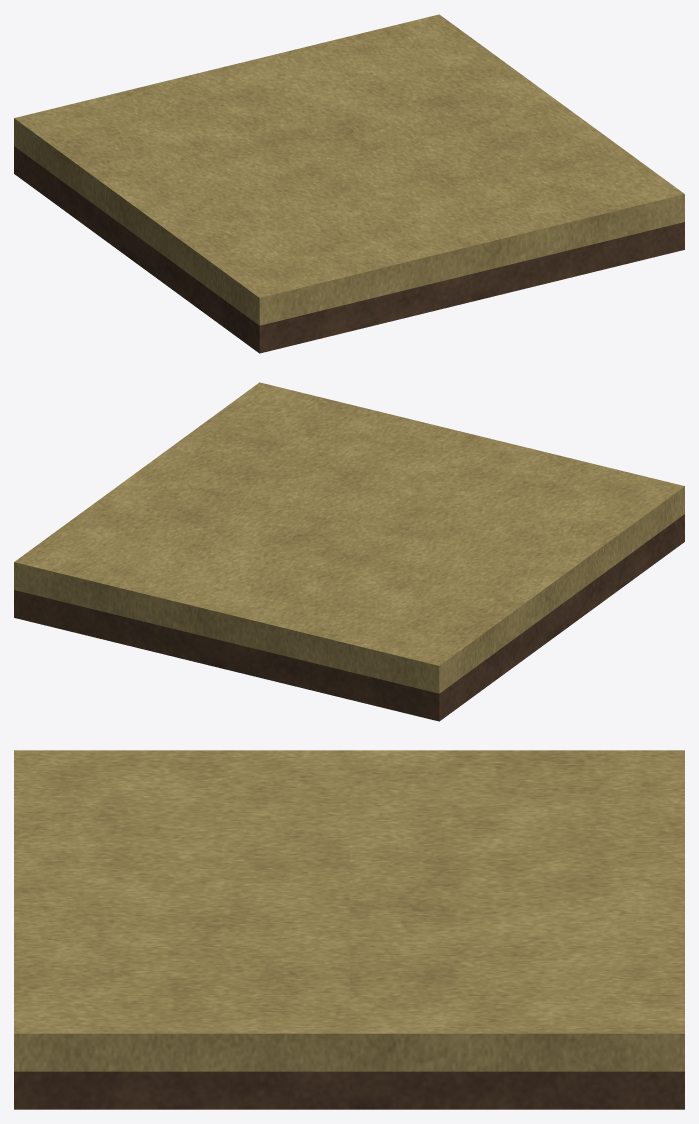
The model's file is ground_sand.glb.
3 views of the same model, one above another, from view 1: azimuth 30°, elevation 25°; view 2: azimuth 150°, elevation 25°; view 3: azimuth 270°, elevation 25° (orthographic). The views are drawn at different scales.
Parts seen in each view (by area): view 1: wilds_tiles_ground_sand; view 2: wilds_tiles_ground_sand; view 3: wilds_tiles_ground_sand.
Part boxes in pixels (left/top/right/bottom): wilds_tiles_ground_sand: left=14, top=14, right=684, bottom=353; wilds_tiles_ground_sand: left=14, top=382, right=684, bottom=721; wilds_tiles_ground_sand: left=14, top=750, right=684, bottom=1109.
Bounding box in the file's own units: 1 × 0.125 × 1.
1 material, 1 textured.
